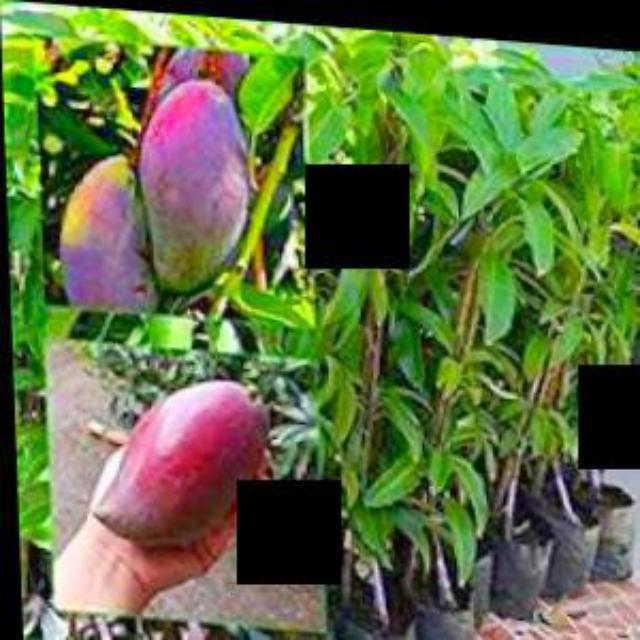tree: (15, 8, 637, 638)
